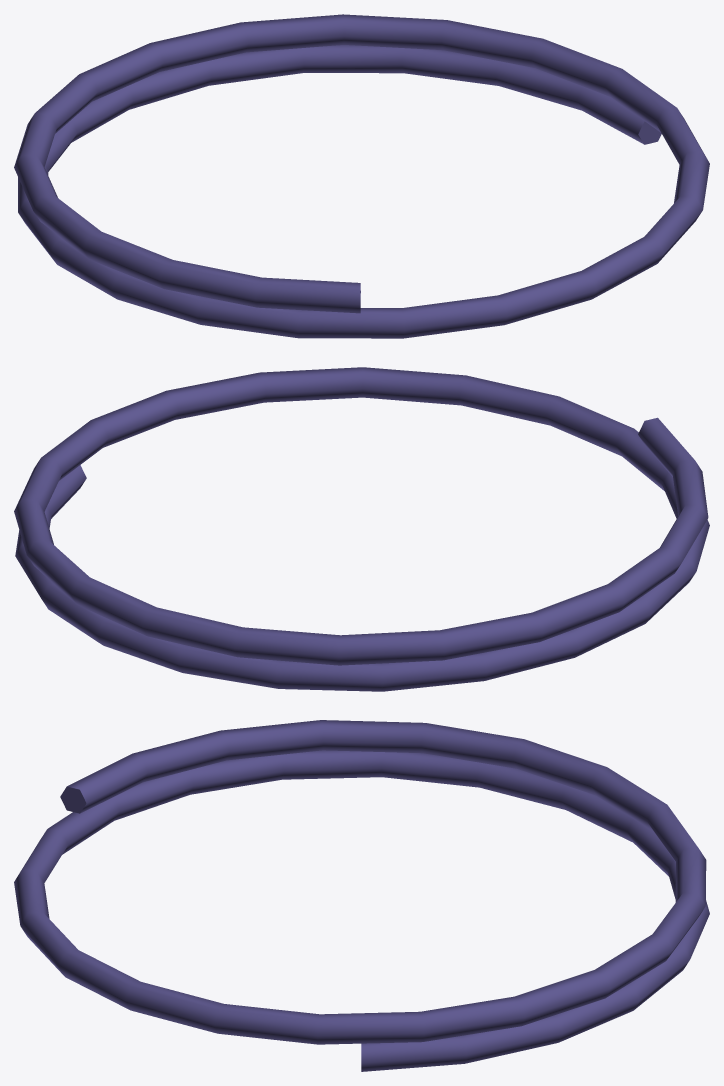
Rendered from Llavero Espiral.fbx.
3 views of the same model, one above another, from view 1: azimuth 30°, elevation 25°; view 2: azimuth 150°, elevation 25°; view 3: azimuth 270°, elevation 25° (orthographic).
Visible parts, largest first — view 1: Llavero_Espiral; view 2: Llavero_Espiral; view 3: Llavero_Espiral.
Boxes of the visible parts, x1,y1,x2,y2 form: Llavero_Espiral: [14, 14, 709, 338]; Llavero_Espiral: [14, 367, 709, 691]; Llavero_Espiral: [14, 720, 709, 1071].
Bounding box in the file's own units: 0.0246 × 0.00267 × 0.0246.
